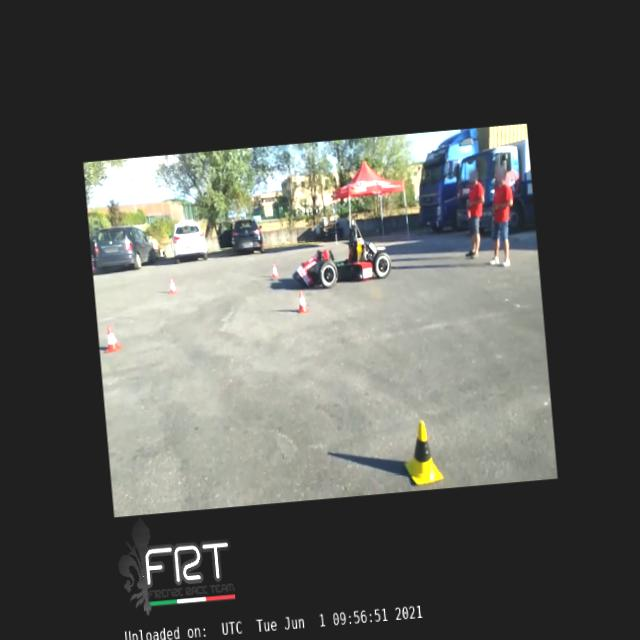orange_cone: (103, 325, 122, 352), (294, 290, 308, 312), (166, 278, 178, 293), (270, 263, 278, 278)
yellow_cone: (401, 418, 443, 486)
